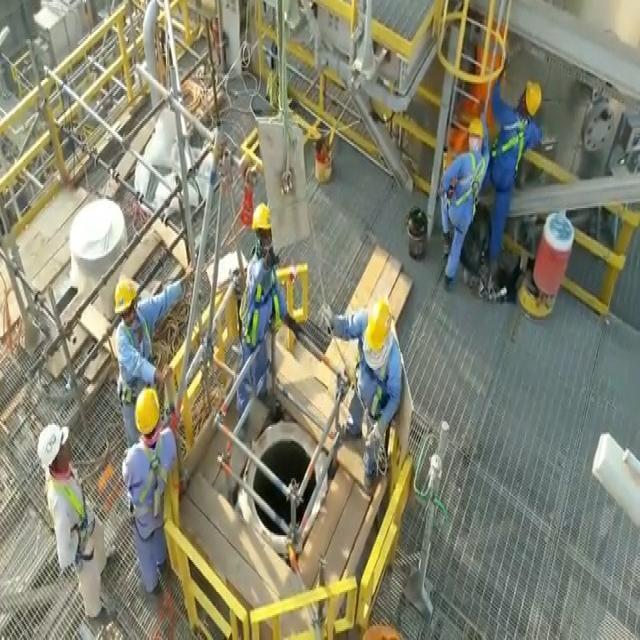No_BreathingApparatus: (138, 428, 159, 453)
No_Harness: (47, 473, 89, 559)
Person: (123, 396, 177, 624), (43, 426, 93, 609), (440, 115, 488, 294), (113, 287, 160, 424)
